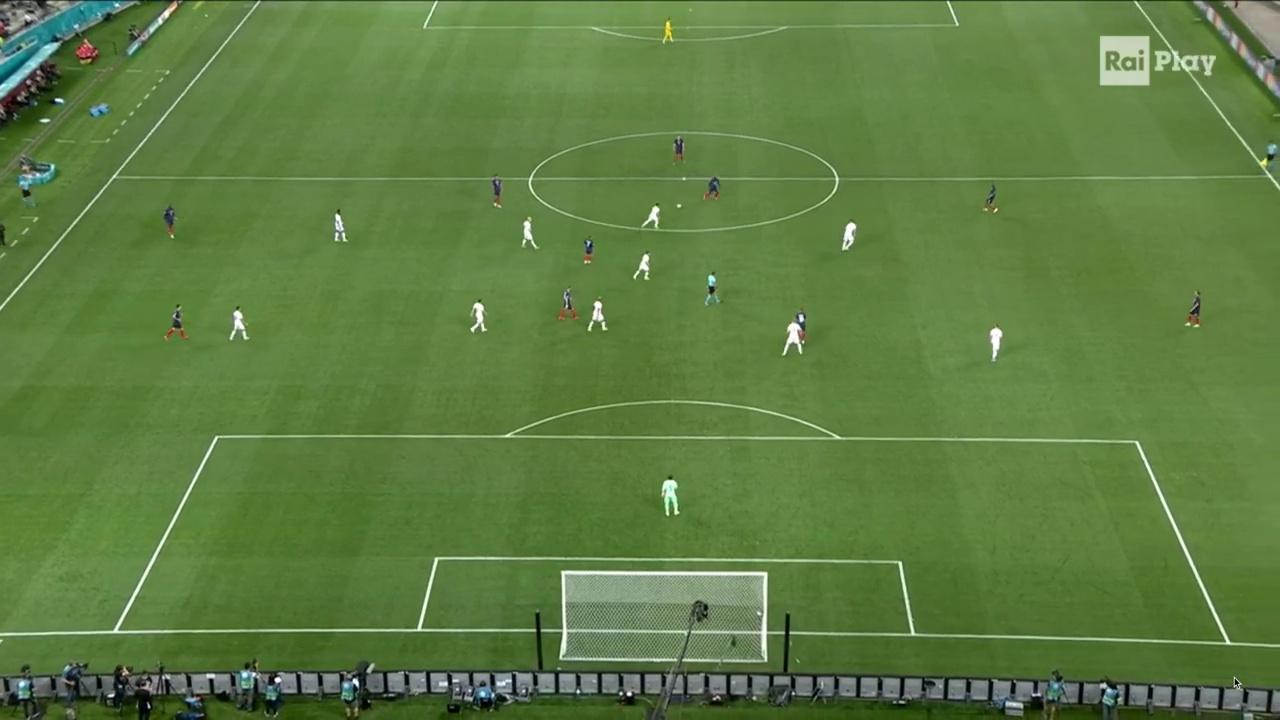ball: (675, 203, 683, 210)
goalkeeper: (660, 473, 683, 518), (660, 16, 675, 46)
player: (163, 303, 191, 342), (779, 317, 805, 357), (585, 295, 609, 334), (557, 285, 581, 323), (227, 304, 251, 342), (1182, 289, 1202, 330), (520, 215, 541, 251), (639, 201, 664, 231), (631, 249, 653, 283), (160, 201, 179, 240), (987, 322, 1005, 363), (469, 298, 488, 335), (981, 178, 1000, 215), (840, 217, 858, 253), (792, 306, 808, 346), (332, 208, 349, 244), (702, 175, 723, 202), (489, 173, 504, 210), (671, 134, 686, 167), (582, 234, 596, 265)
referee: (703, 269, 723, 307), (18, 175, 38, 209), (1264, 137, 1276, 173)
